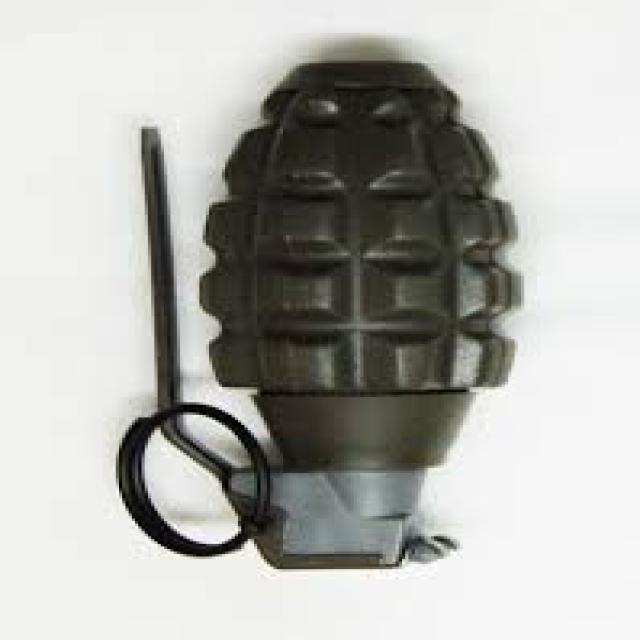grenade: (96, 54, 541, 585)
